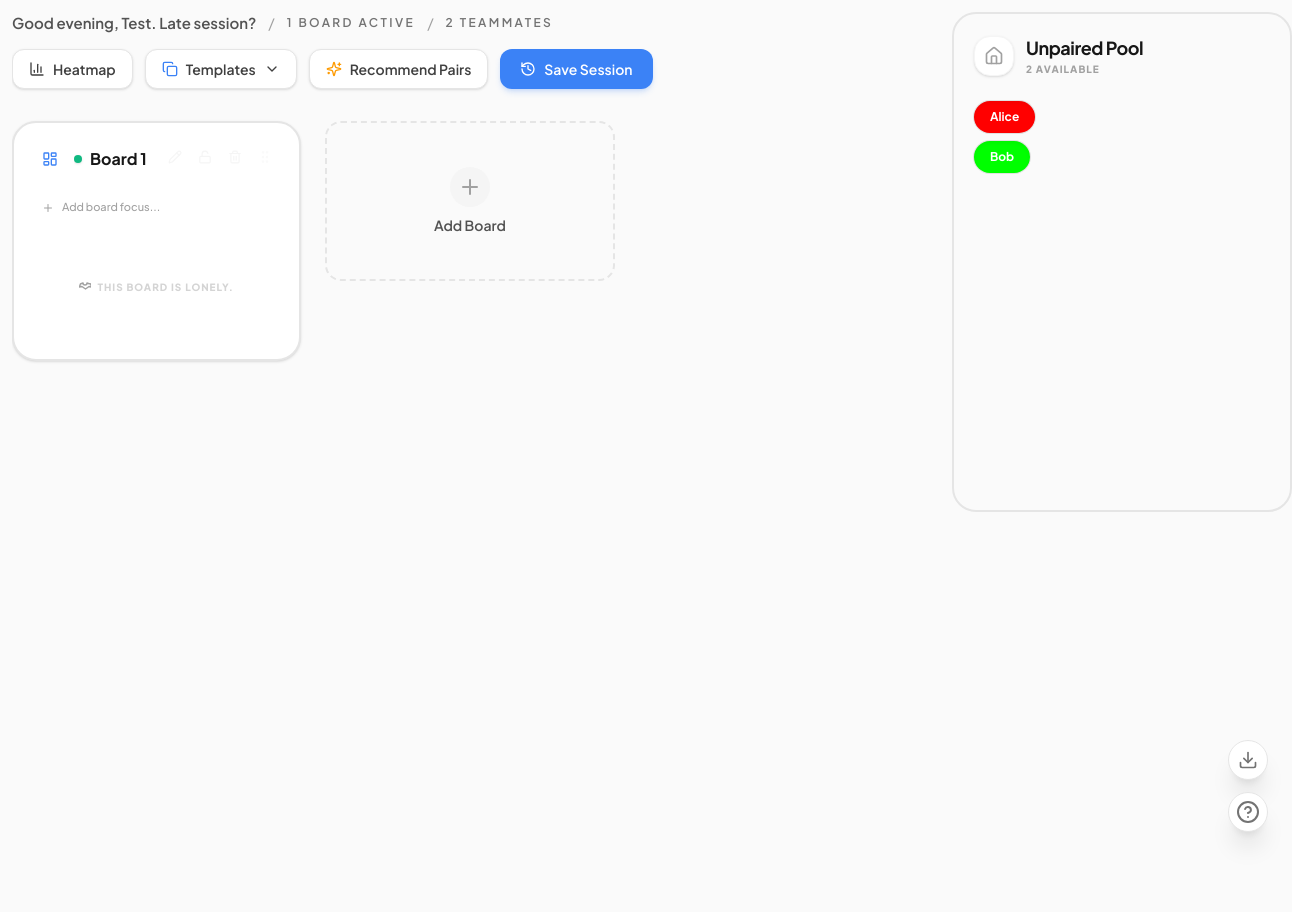
it: PairingWorkspace Component › allows moving multiple people to a board via bulk move menu
# Multi-select Alice and Bob
Step 1. Click the button "Alice" → point(1005, 117), box [974,101,1035,133]
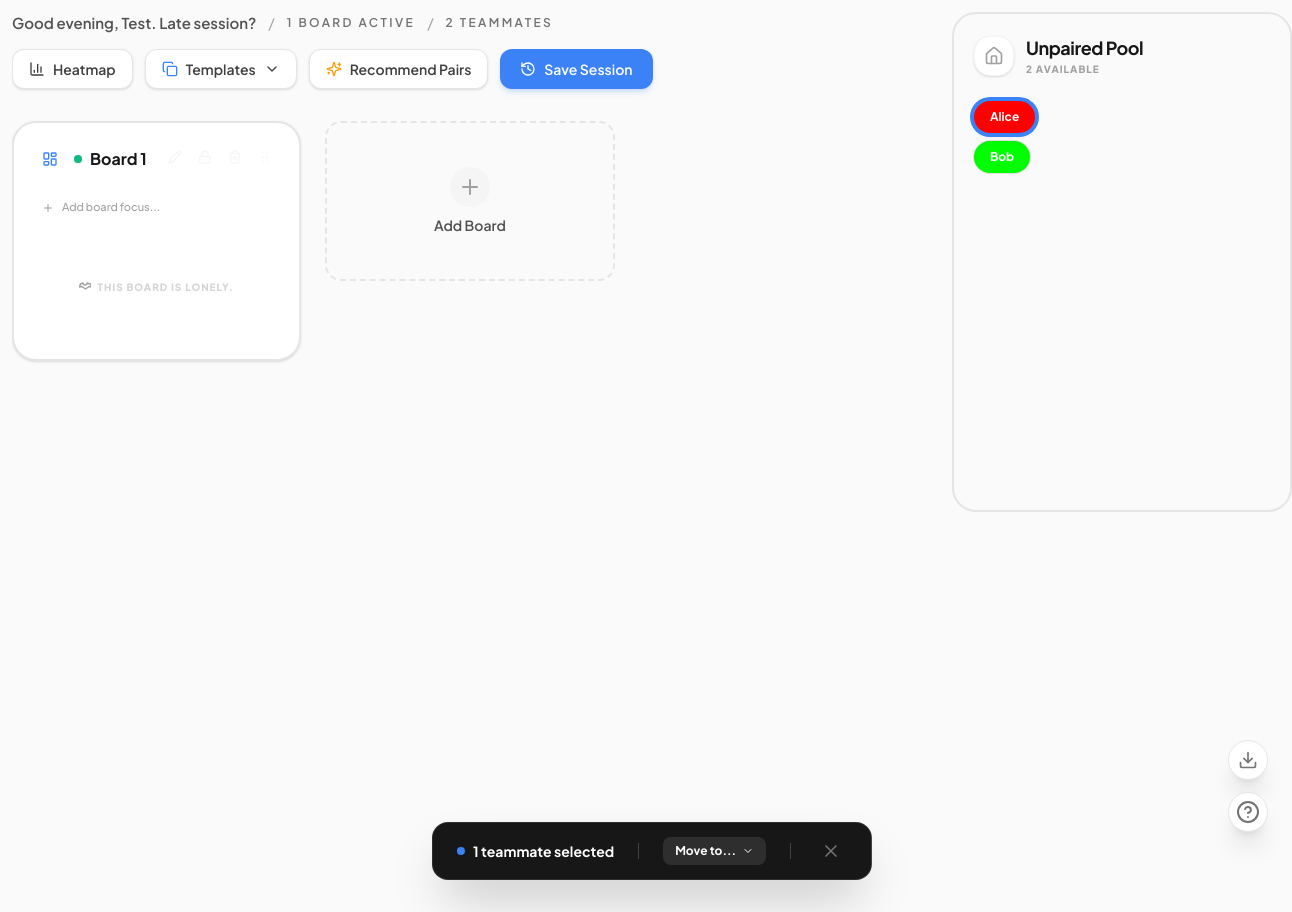
Step 2. Click the button "Bob" → point(1002, 157), box [974,141,1030,173]
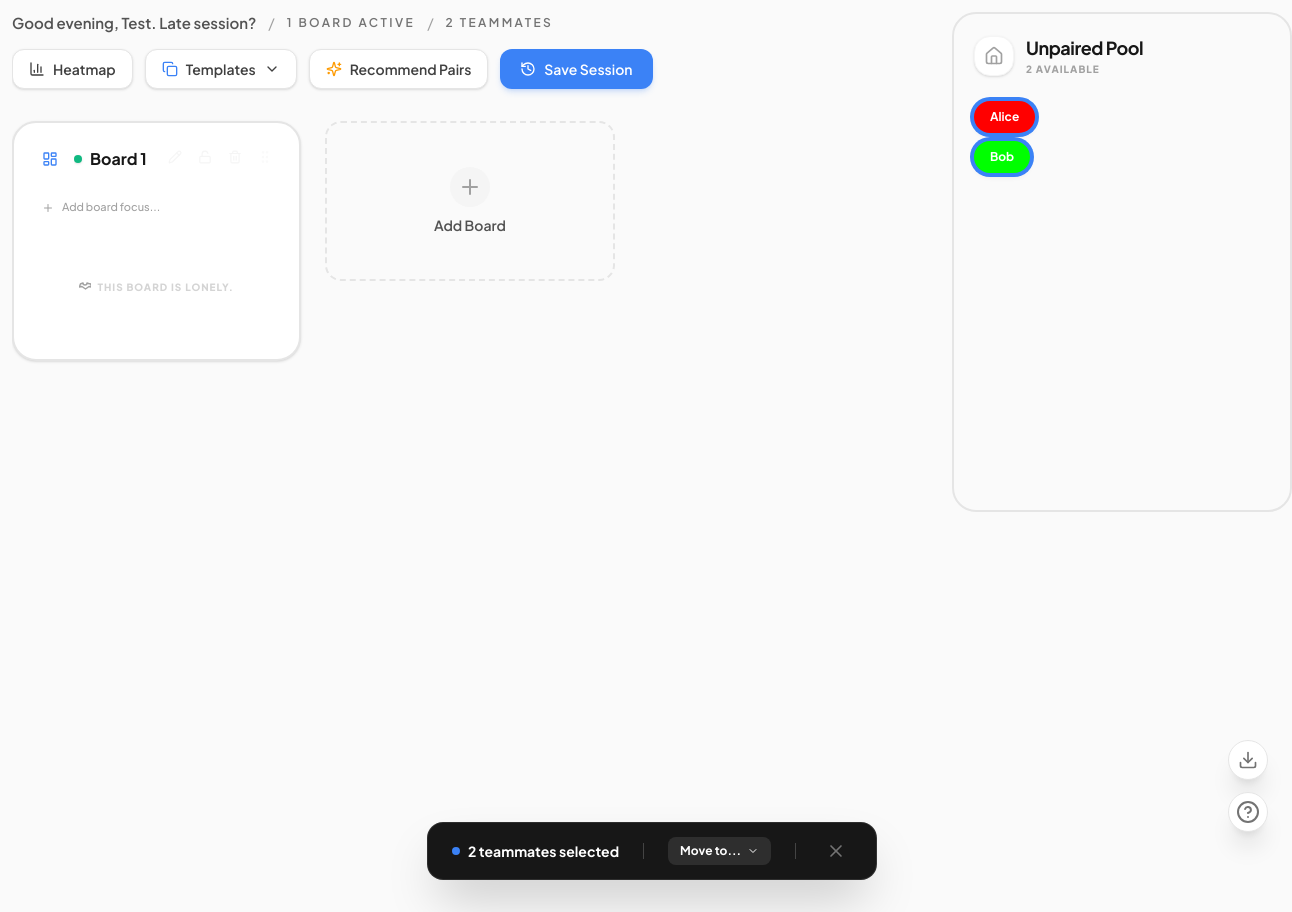
Expected: the text "2 teammates selected" is shown, [452,841,619,861]
# Open bulk move menu
Step 3. Click the button "Move to..." → point(720, 851), box [668,837,771,865]
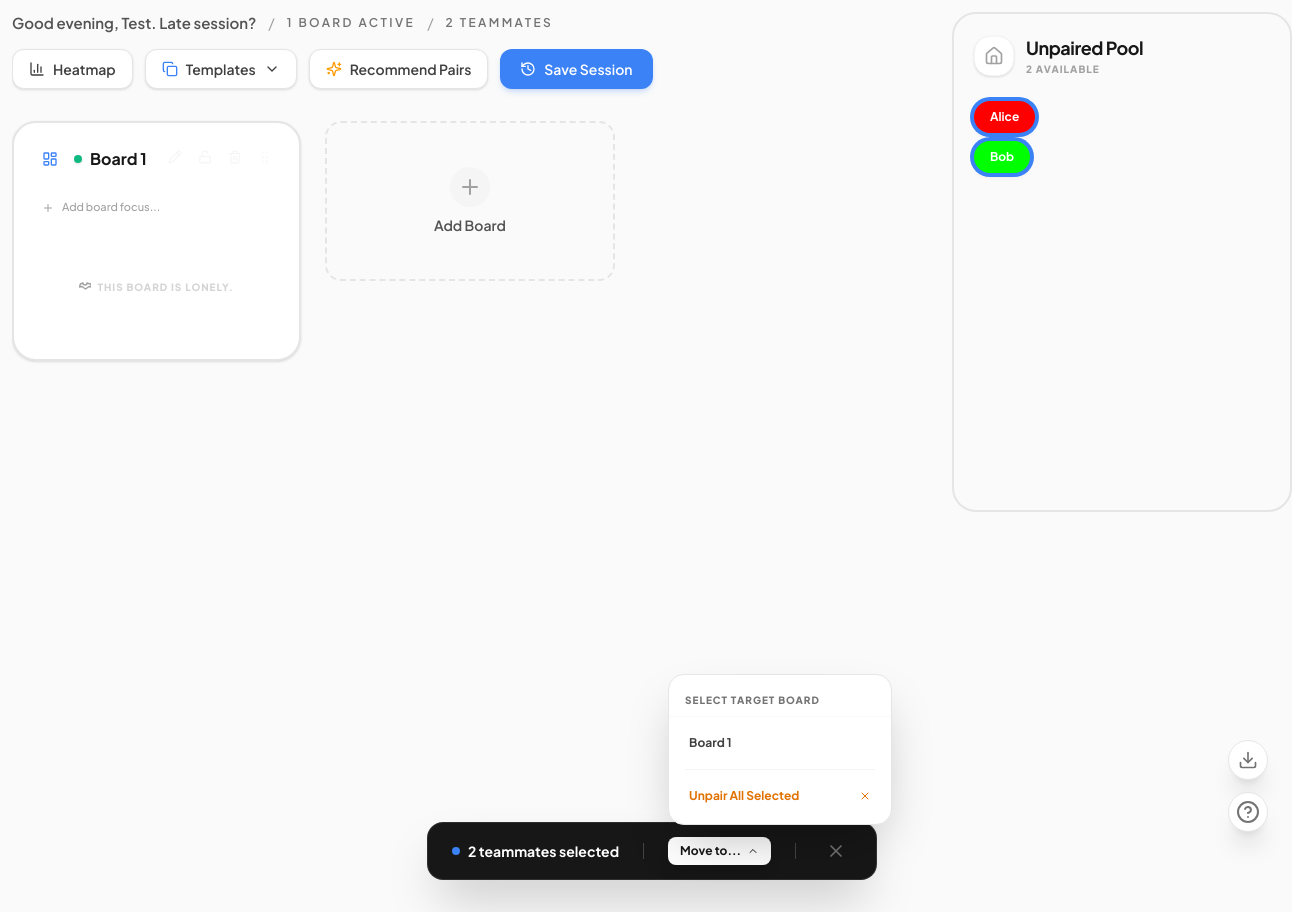
Expected: the text "Select Target Board" is shown, [669,685,891,717]
Step 4. Click the button "Board 1" → point(780, 743), box [677,725,883,761]
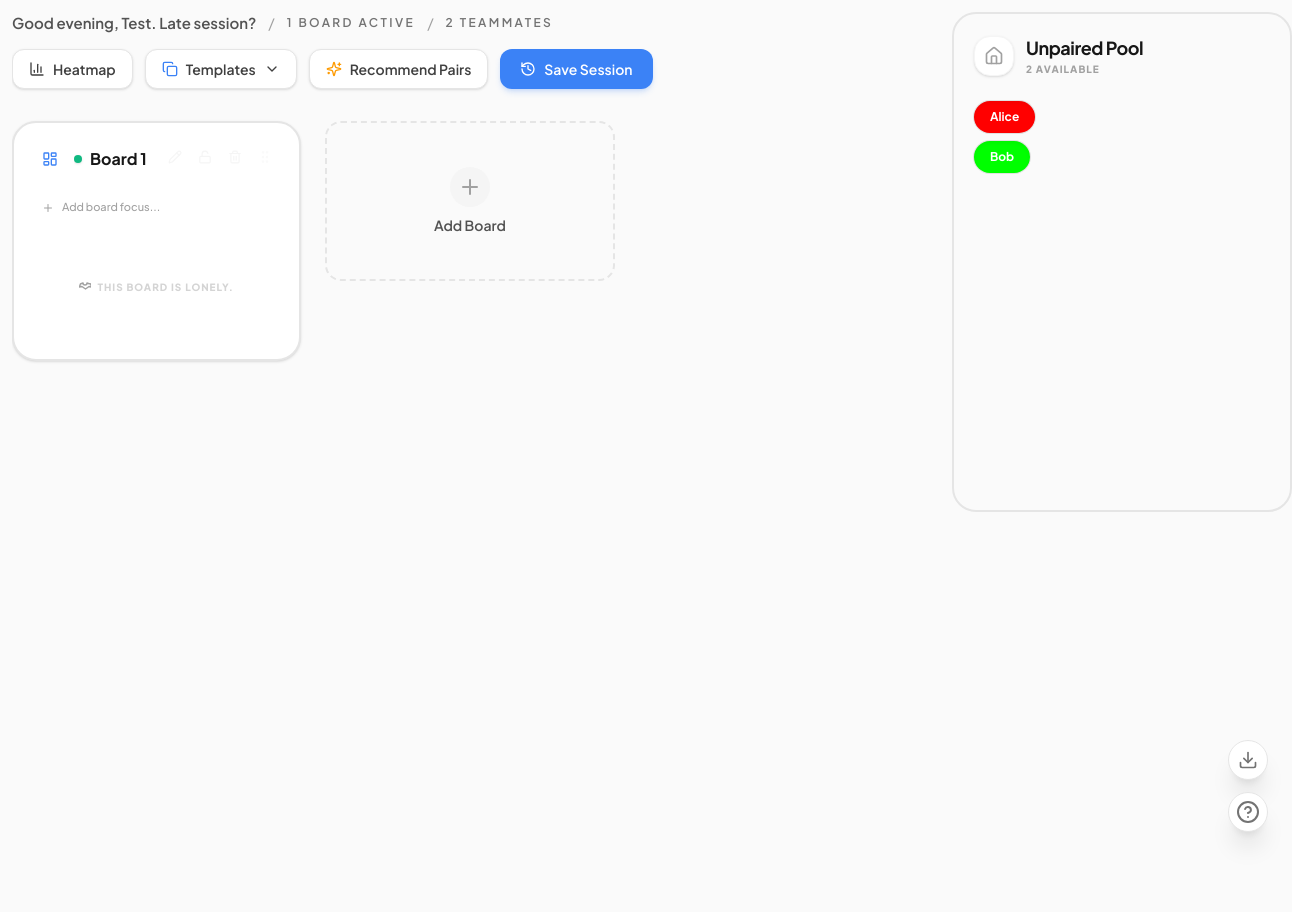
Expected: the text "2 teammates selected" is gone
